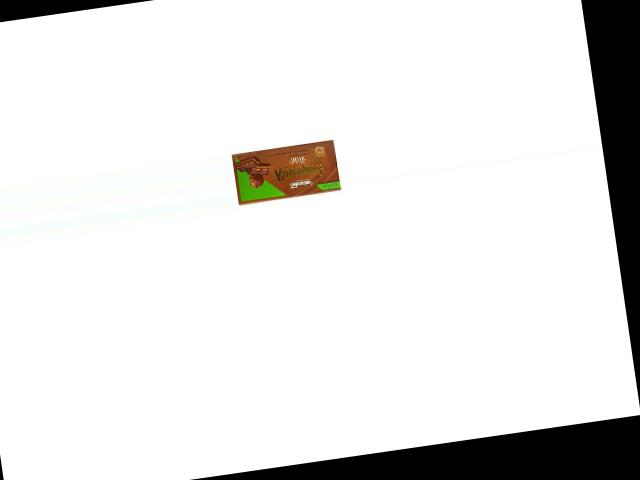chocolate: (230, 137, 345, 209)
